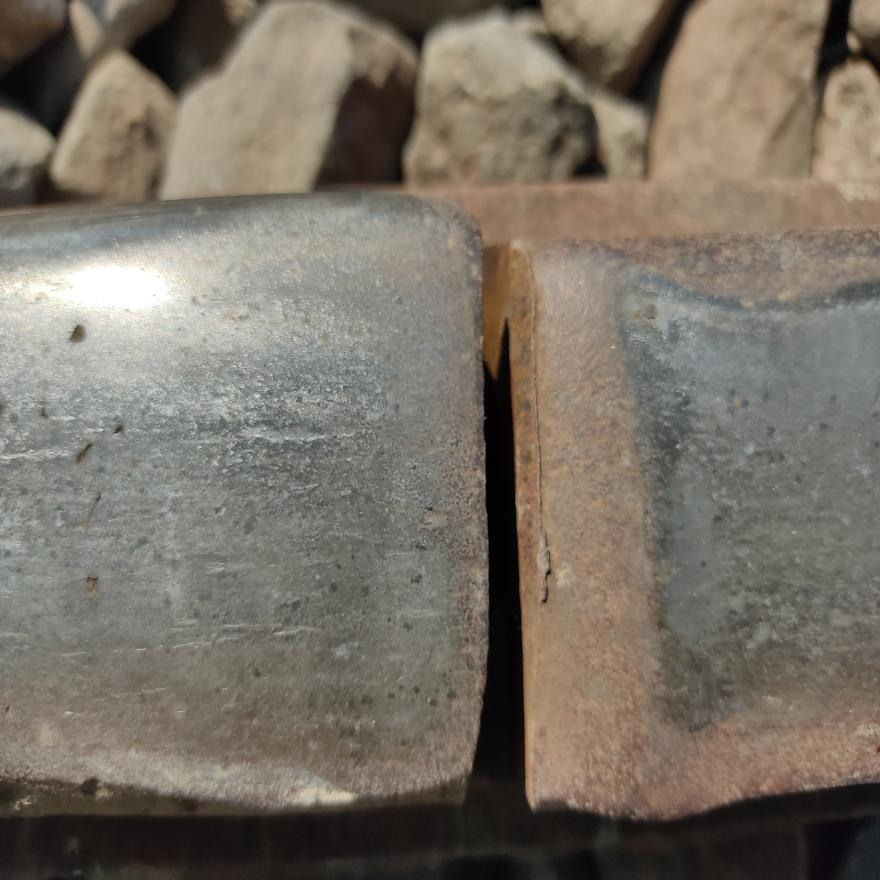railway-gap: (237, 93, 756, 866)
